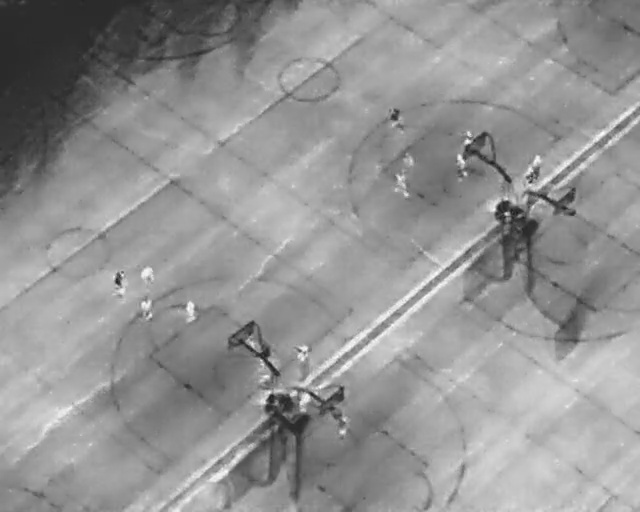Person: (455, 152, 470, 180), (394, 168, 408, 196), (113, 268, 126, 297), (296, 343, 312, 366), (142, 293, 153, 321), (335, 415, 348, 437), (143, 265, 156, 285), (401, 149, 412, 172), (525, 164, 536, 187), (185, 300, 196, 320), (462, 130, 473, 147), (533, 152, 541, 175)
